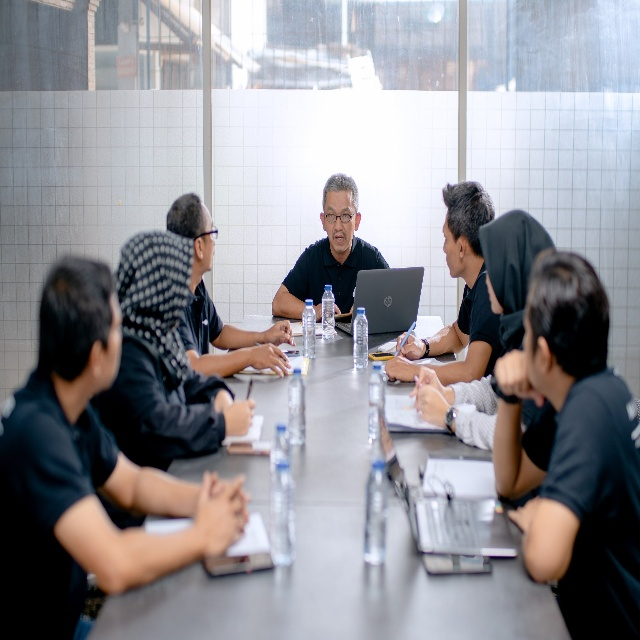Gafas: (324, 210, 357, 224), (193, 224, 217, 243)
Sin_guantes: (195, 469, 248, 554), (493, 347, 544, 409), (209, 475, 250, 542), (409, 366, 444, 415), (416, 383, 447, 428), (252, 341, 291, 376), (223, 396, 256, 437), (507, 497, 539, 534), (384, 354, 420, 383), (263, 319, 295, 346), (394, 332, 425, 359), (314, 300, 341, 320), (214, 389, 233, 416)
